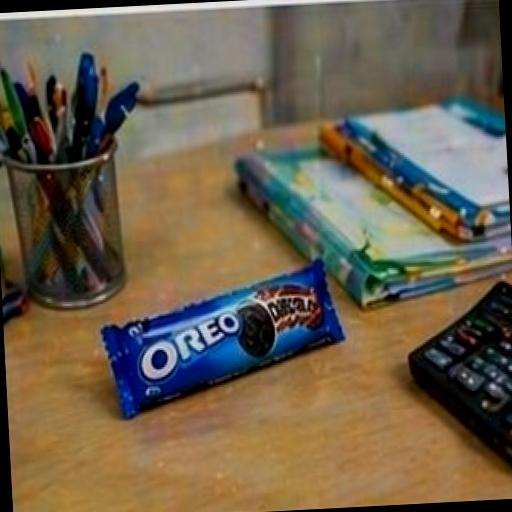oreo: (72, 238, 401, 442)
